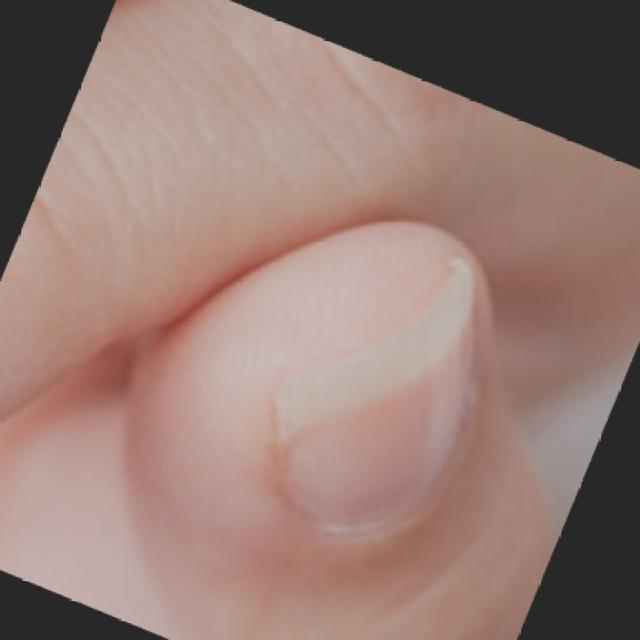Nail: (276, 264, 478, 535)
